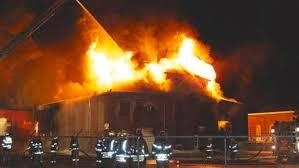fire: (74, 21, 229, 94)
